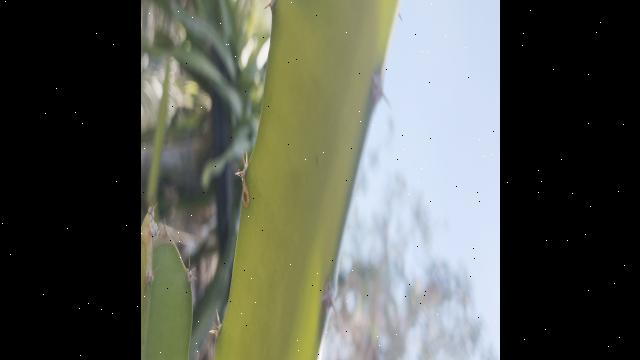stemcanker: (238, 186, 253, 211)
